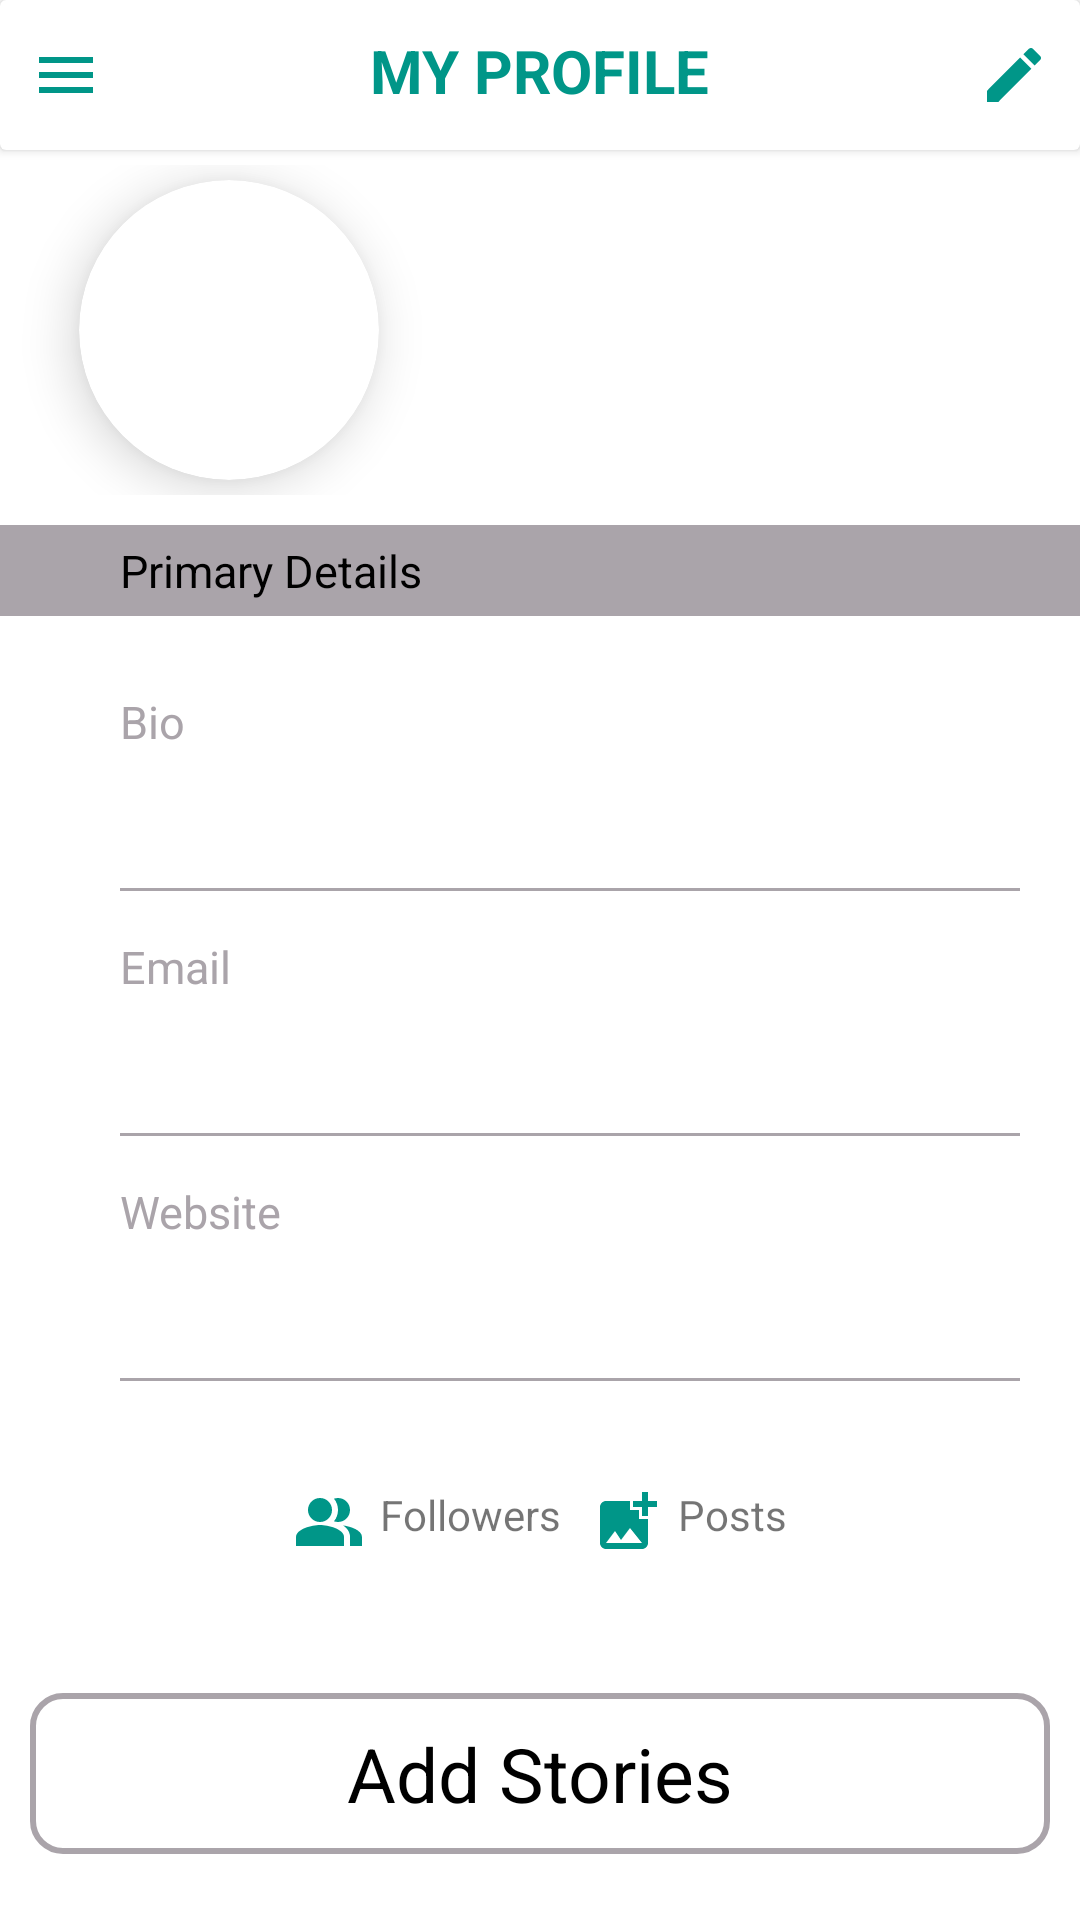

Named icons in this screenshot (1080×1920) and their bounding boxes, bbox(x1, y1, x2, y2):
edit: bbox(987, 48, 1041, 102)
menu: bbox(39, 57, 93, 93)
